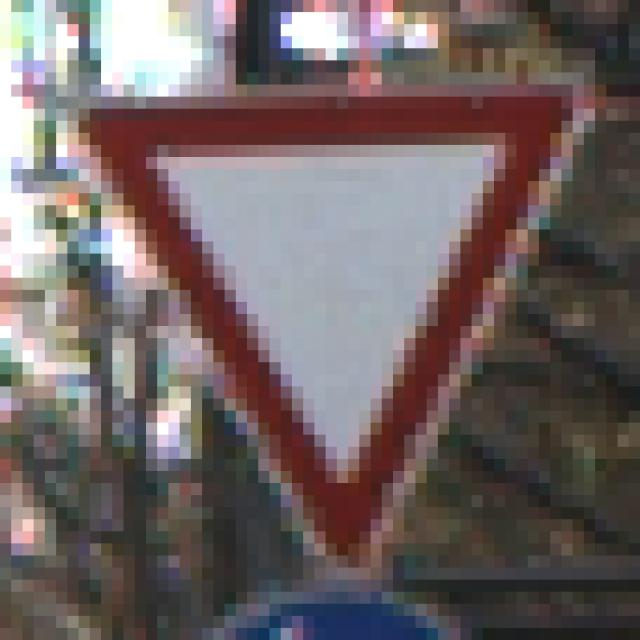Give Way: (57, 62, 585, 581)
